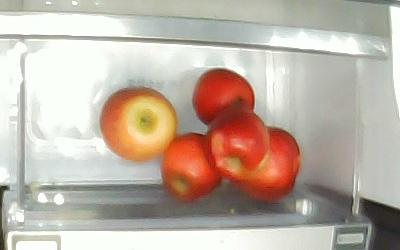apple: (99, 88, 178, 162), (230, 126, 300, 198), (203, 105, 269, 180), (160, 131, 220, 199), (192, 68, 256, 125)
